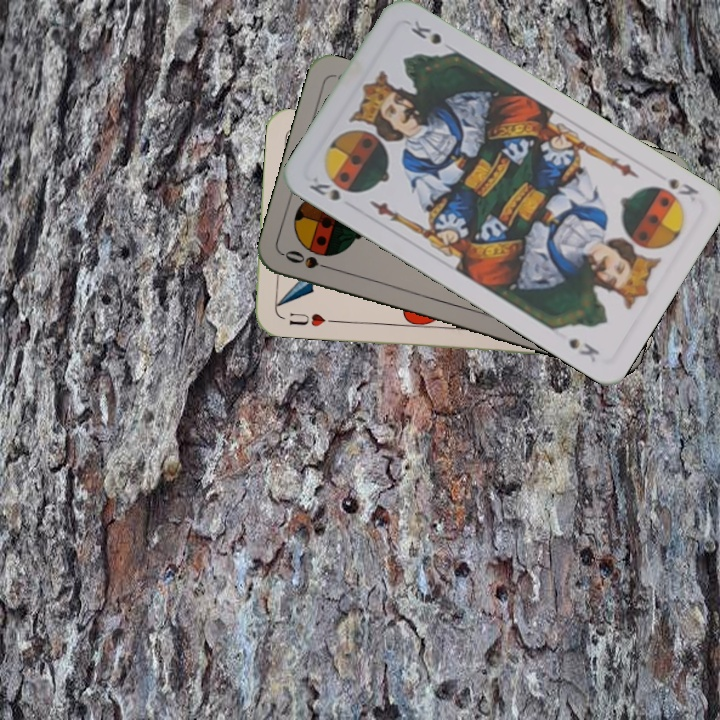HU: (285, 308, 328, 329)
SK: (665, 174, 702, 204), (305, 179, 343, 204)
SO: (280, 246, 338, 274)
